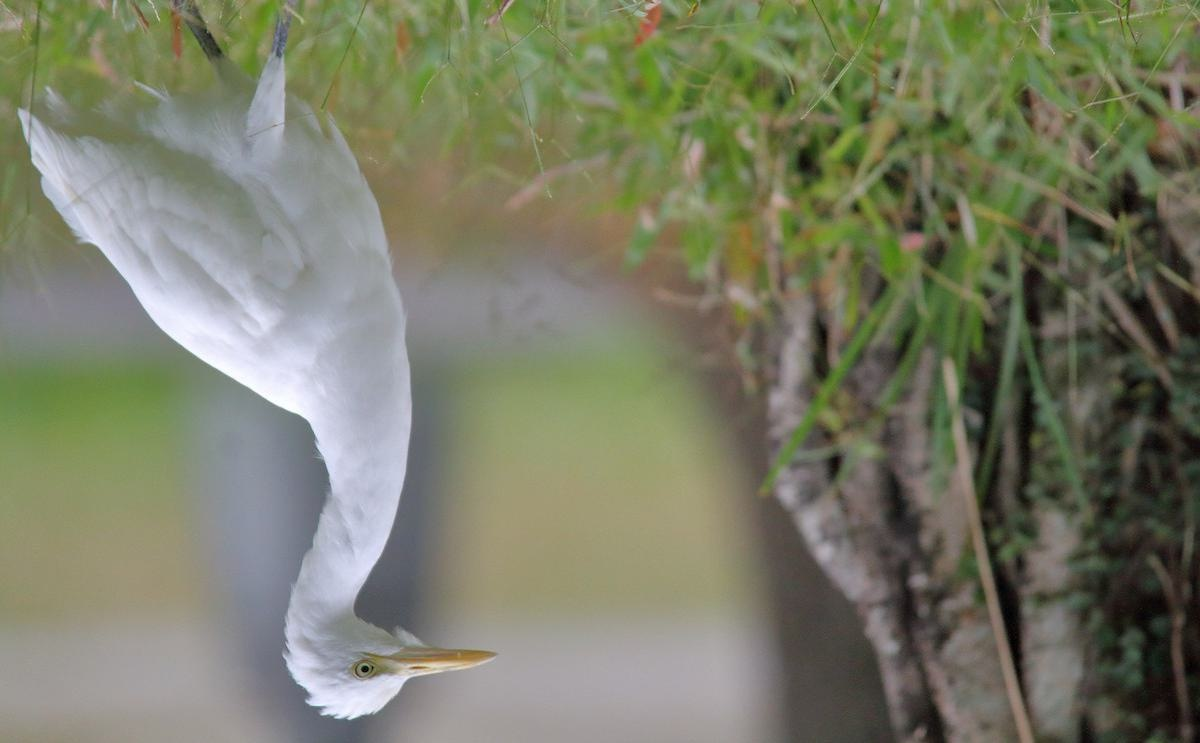egret: (1, 49, 511, 733)
